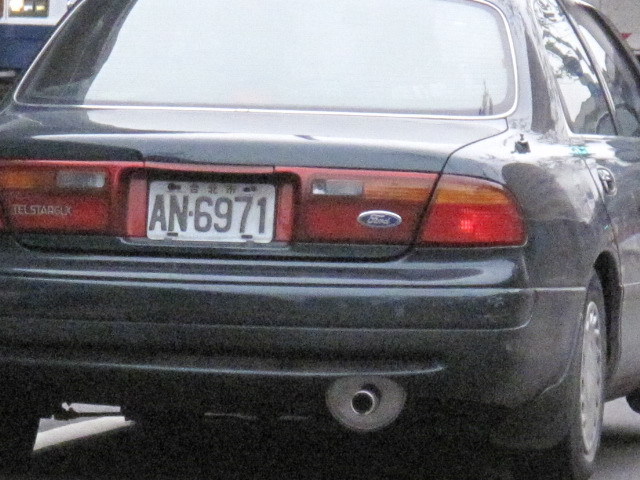plate: (143, 178, 277, 248)
